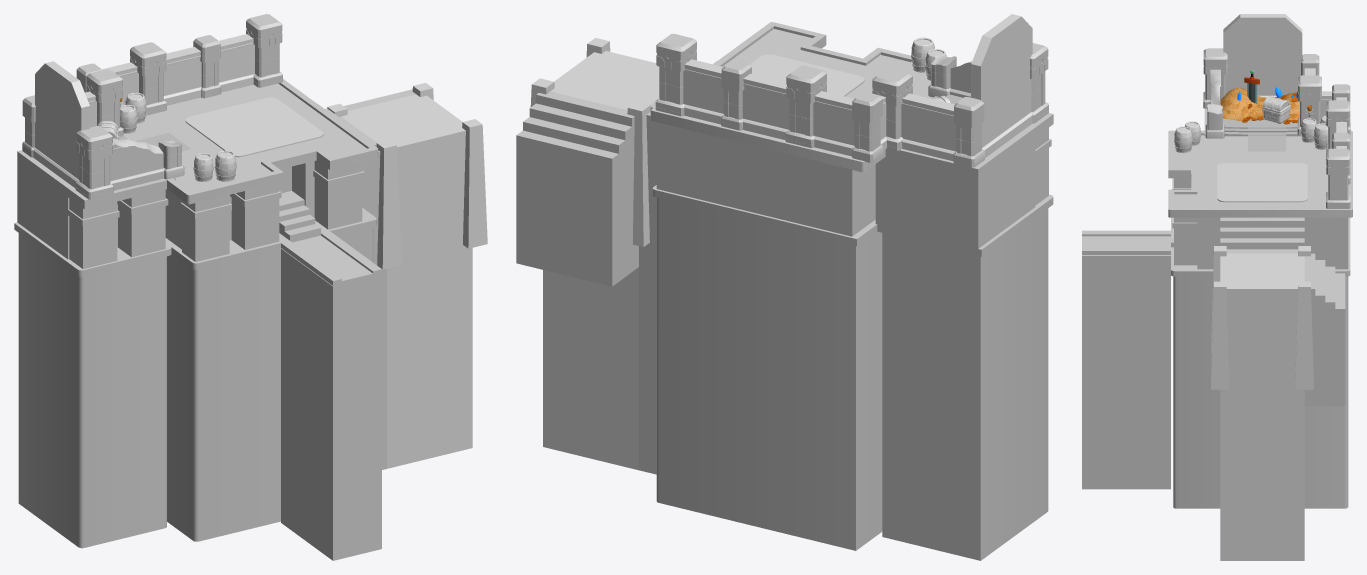
The model's file is RPG 방 with details 1.fbx.
3 views of the same model, side by side, from view 1: azimuth 30°, elevation 25°; view 2: azimuth 150°, elevation 25°; view 3: azimuth 270°, elevation 25° (orthographic). The views are drawn at different scales.
Visible parts, largest first — view 1: Cube.023, Cube.021, Cube.013, Cube, Cube.001, Cube.019, wall.003, floor_02.001, Cube.007, Cube.008, Cube.011, Cube.012 (+20 smaller); view 2: Cube.021, Cube.023, Cube, Cube.024, Cube.003, Cube.019, Cube.001, wall.003, Cube.002, Cube.043, Cube.016, pillar.004.frozen.007 (+15 smaller); view 3: Cube, Cube.013, Cube.021, Cube.001, wall.003, Cube.024, floor_02.001, Cube.003, Cube.002, Cube.025, Cube.027, pillar.004.frozen.009 (+14 smaller).
Boxes of the visible parts, x1=… form: Cube.023: x1=18, y1=233, x2=166, y2=548; Cube.021: x1=167, y1=227, x2=373, y2=541; Cube.013: x1=281, y1=231, x2=381, y2=560; Cube: x1=341, y1=94, x2=472, y2=468; Cube.001: x1=123, y1=79, x2=378, y2=204; Cube.019: x1=17, y1=150, x2=175, y2=259; wall.003: x1=33, y1=61, x2=89, y2=188; floor_02.001: x1=185, y1=97, x2=323, y2=157; Cube.007: x1=68, y1=198, x2=119, y2=268; Cube.008: x1=313, y1=160, x2=364, y2=229; Cube.011: x1=230, y1=182, x2=281, y2=249; Cube.012: x1=180, y1=195, x2=231, y2=261; Cube.021: x1=656, y1=197, x2=882, y2=550; Cube.023: x1=882, y1=208, x2=1048, y2=560; Cube: x1=543, y1=51, x2=659, y2=470; Cube.024: x1=516, y1=91, x2=638, y2=286; Cube.003: x1=656, y1=122, x2=875, y2=236; Cube.019: x1=875, y1=113, x2=1053, y2=248; Cube.001: x1=651, y1=22, x2=932, y2=172; wall.003: x1=971, y1=14, x2=1032, y2=157; Cube.002: x1=639, y1=61, x2=716, y2=474; Cube.043: x1=901, y1=93, x2=956, y2=161; Cube.016: x1=742, y1=73, x2=789, y2=140; pillar.004.frozen.007: x1=785, y1=65, x2=826, y2=148; Cube: x1=1220, y1=253, x2=1304, y2=560; Cube.013: x1=1082, y1=230, x2=1170, y2=489; Cube.021: x1=1173, y1=276, x2=1348, y2=508; Cube.001: x1=1168, y1=130, x2=1352, y2=217; wall.003: x1=1223, y1=14, x2=1302, y2=97; Cube.024: x1=1304, y1=253, x2=1345, y2=406; floor_02.001: x1=1217, y1=163, x2=1307, y2=202; Cube.003: x1=1197, y1=217, x2=1348, y2=269; Cube.002: x1=1220, y1=217, x2=1304, y2=253; Cube.025: x1=1210, y1=281, x2=1229, y2=389; Cube.027: x1=1295, y1=281, x2=1313, y2=389; pillar.004.frozen.009: x1=1326, y1=148, x2=1350, y2=208.
Bounding box in the file's own units: 1768 × 1187 × 1863.
